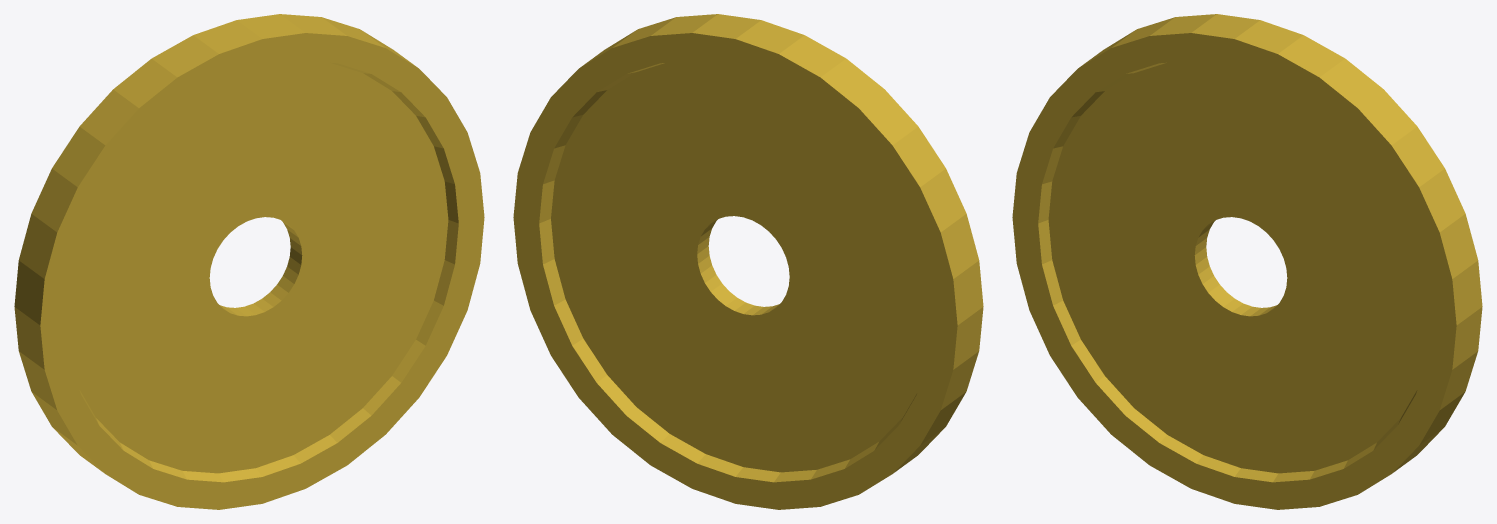
Rendered from coin.fbx.
3 renders of one model, left to right at view 1: azimuth 30°, elevation 25°; view 2: azimuth 150°, elevation 25°; view 3: azimuth 330°, elevation 25°, orthographic.
Visible parts, largest first — view 1: Circle; view 2: Circle; view 3: Circle.
Part boxes in pixels (x1=…): Circle: x1=14, y1=14, x2=484, y2=509; Circle: x1=513, y1=14, x2=983, y2=509; Circle: x1=1012, y1=14, x2=1482, y2=509.
Bounding box in the file's own units: 1.37 × 1.37 × 0.139.
